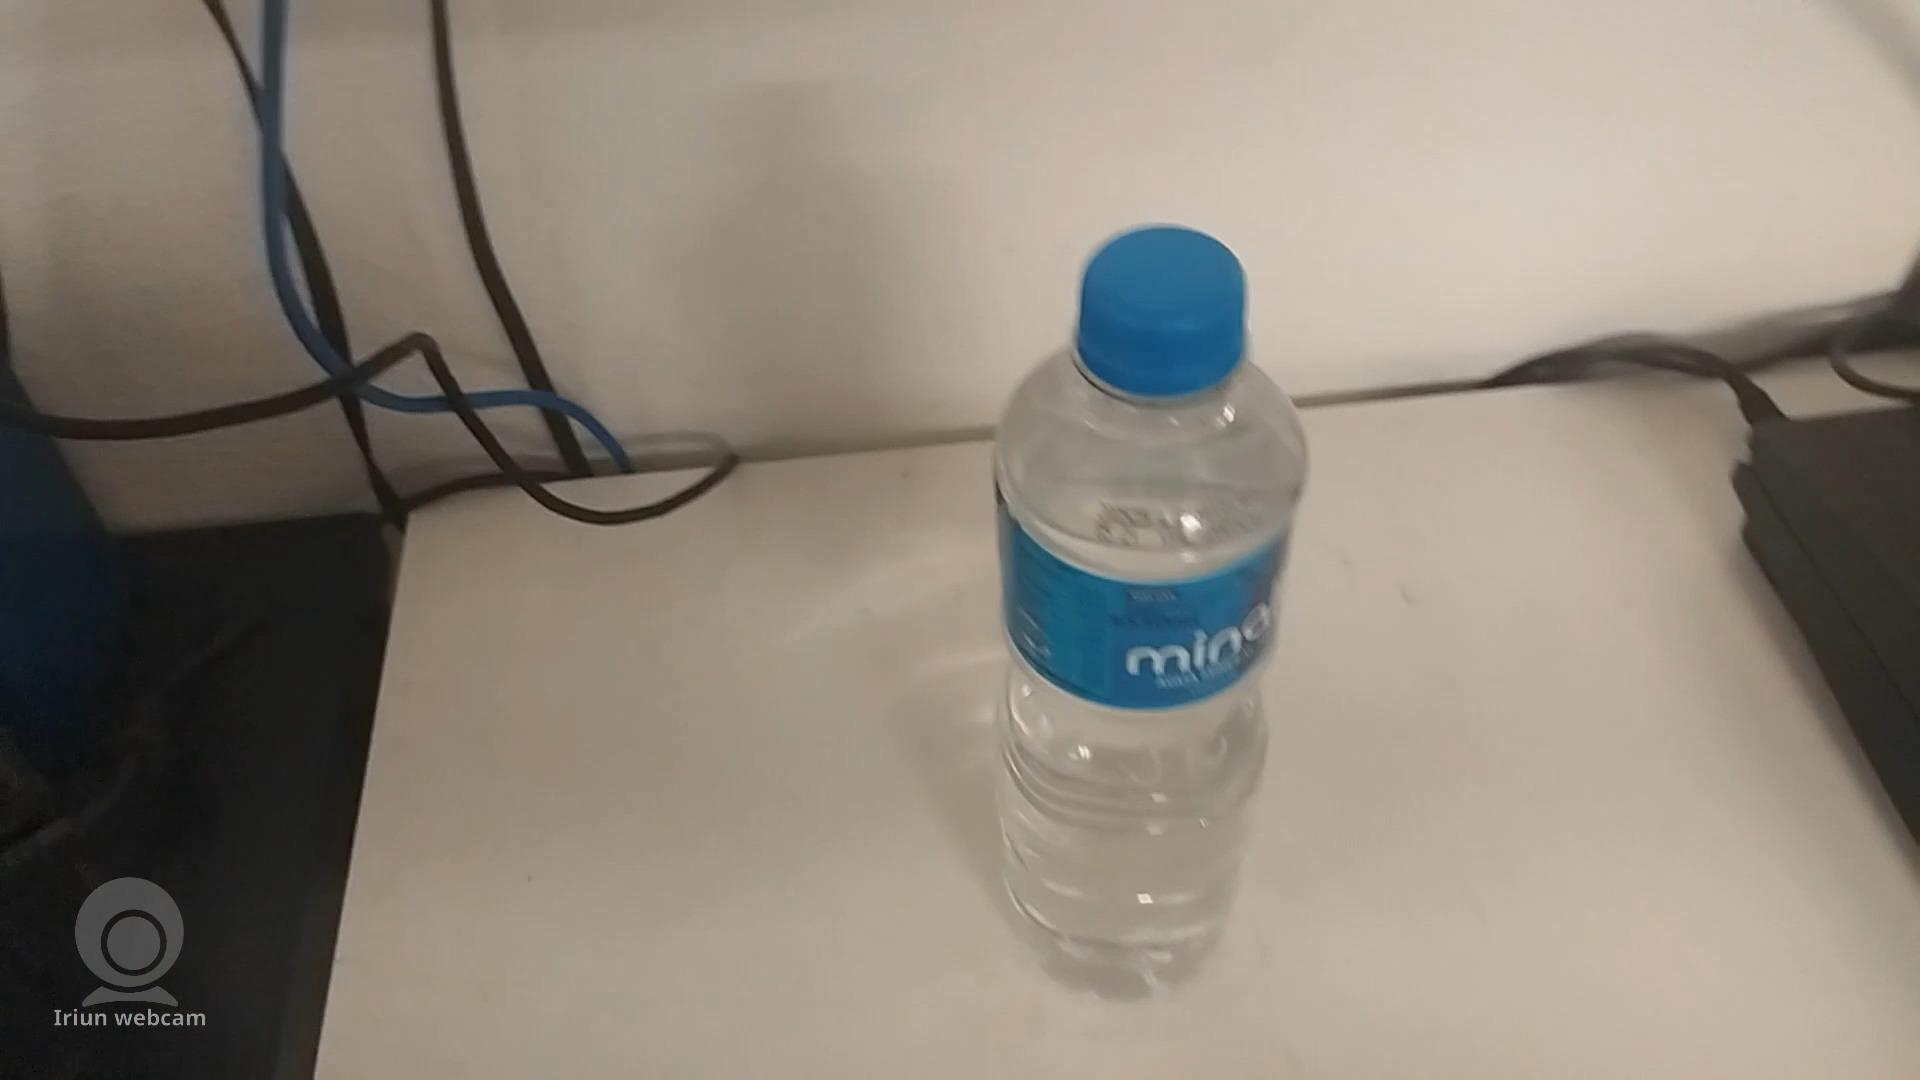agua: (990, 220, 1302, 973)
